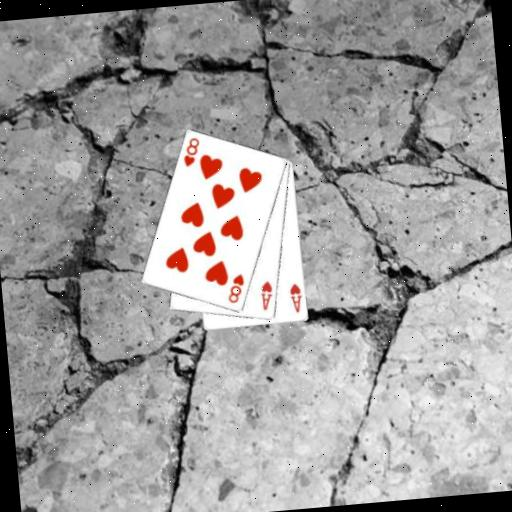8H: (223, 271, 247, 306), (179, 135, 203, 169)
AH: (257, 277, 276, 312), (286, 280, 304, 315)
